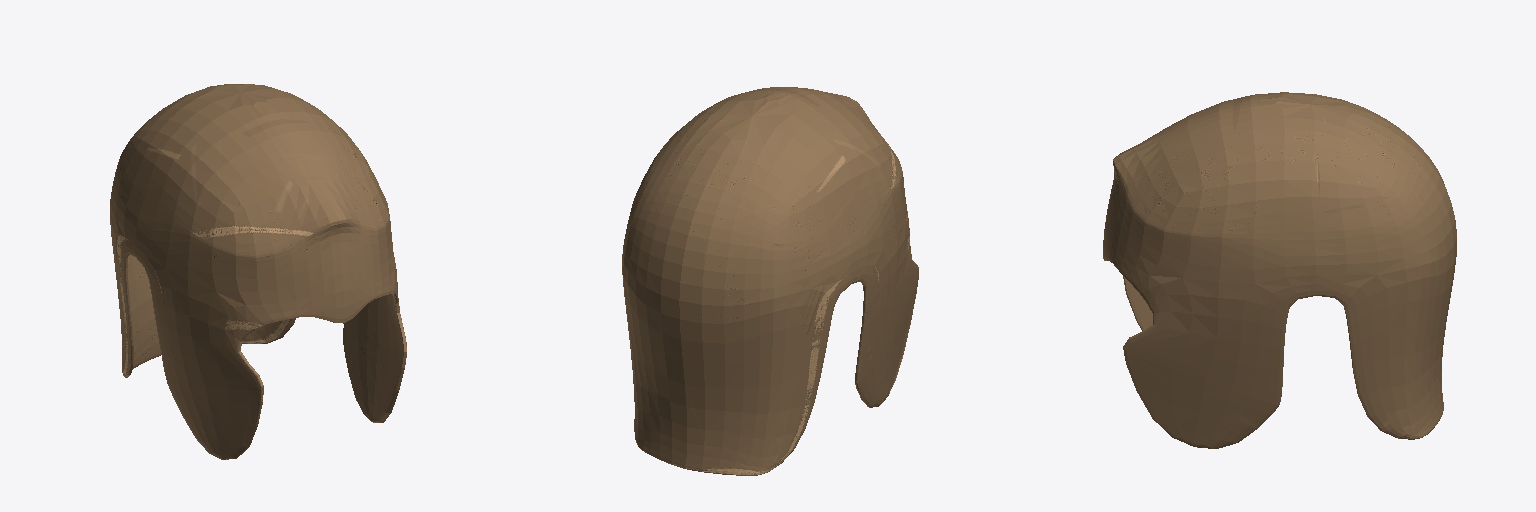
3 renders of one model, left to right at view 1: azimuth 30°, elevation 25°; view 2: azimuth 150°, elevation 25°; view 3: azimuth 270°, elevation 25°, orthographic.
Parts seen in each view (by area): view 1: Low_Roundcube.005; view 2: Low_Roundcube.005; view 3: Low_Roundcube.005.
Part boxes in pixels (x1,y1,x2,y2): Low_Roundcube.005: (110, 84, 406, 459); Low_Roundcube.005: (622, 87, 918, 475); Low_Roundcube.005: (1103, 92, 1456, 448).
Size of the model in its own units: 1.95 by 2.77 by 2.87.
1 materials, 1 textured.